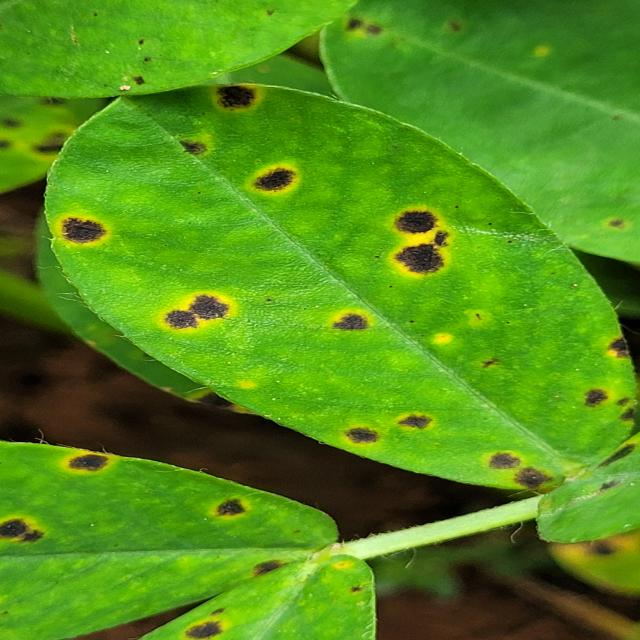Ground nut_tikka leaf spot: (45, 79, 640, 494)
